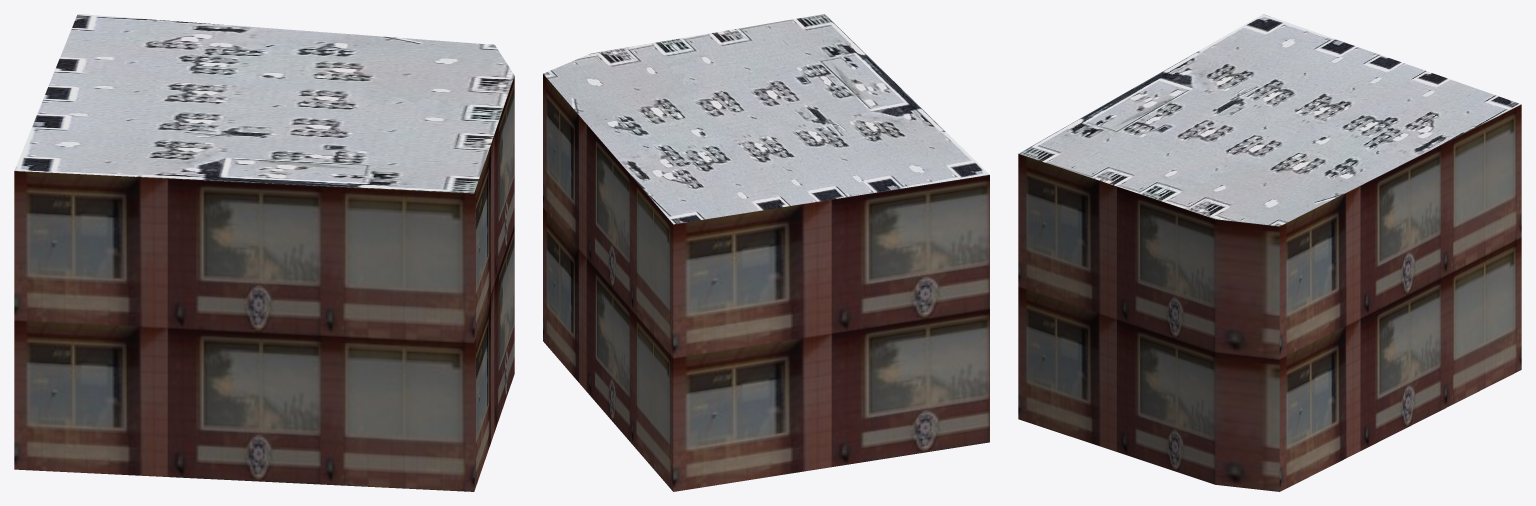
File: ResTex__4626.fbx
3 views of the same model, side by side, from view 1: azimuth 30°, elevation 25°; view 2: azimuth 150°, elevation 25°; view 3: azimuth 270°, elevation 25° (orthographic). The views are drawn at different scales.
Parts seen in each view (by area): view 1: CityEngineMaterial_13_m, CityEngineMaterial_m; view 2: CityEngineMaterial_13_m, CityEngineMaterial_m; view 3: CityEngineMaterial_13_m, CityEngineMaterial_m.
Boxes of the visible parts, x1,y1,x2,y2 form: CityEngineMaterial_13_m: (14,76,514,491); CityEngineMaterial_m: (14,14,514,193); CityEngineMaterial_13_m: (543,74,989,491); CityEngineMaterial_m: (543,14,989,224); CityEngineMaterial_13_m: (1018,104,1521,491); CityEngineMaterial_m: (1018,14,1520,226).
Size of the model in its own units: 10.29 by 6 by 10.3.
2 materials, 2 textured.
